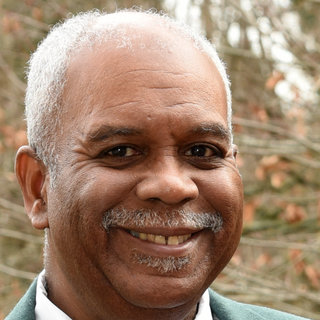eye: (180, 139, 227, 165), (93, 141, 143, 165)
